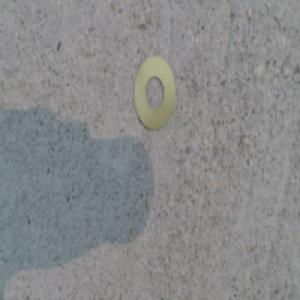Washer: (132, 57, 177, 135)
